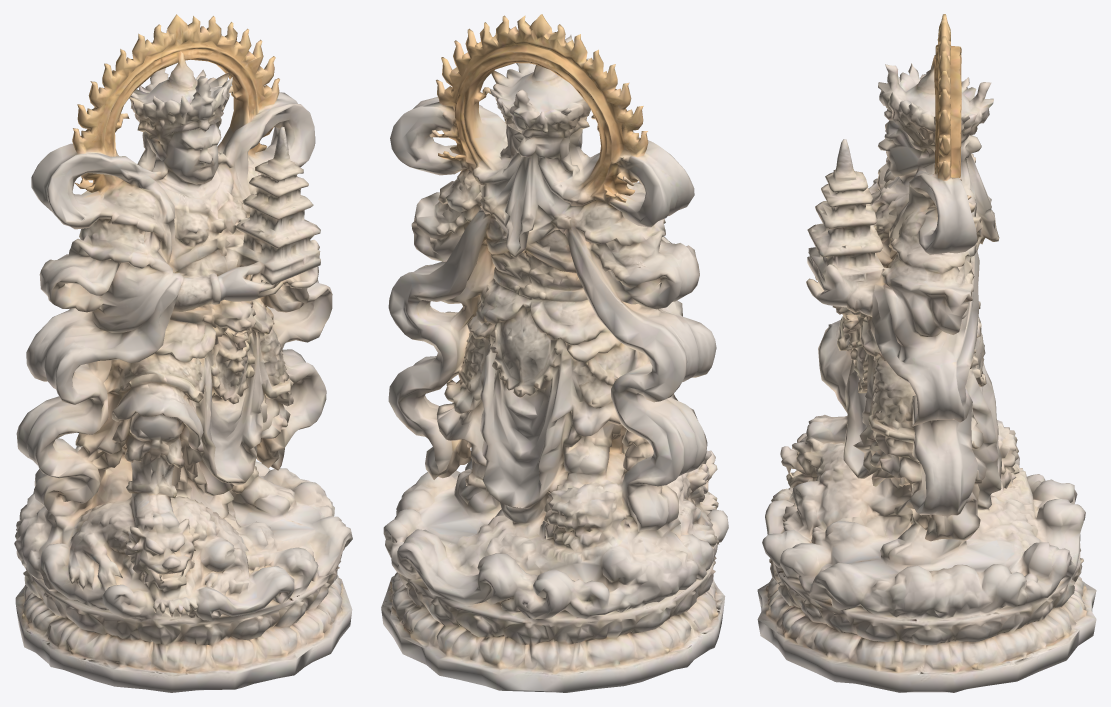
3 renders of one model, left to right at view 1: azimuth 30°, elevation 25°; view 2: azimuth 150°, elevation 25°; view 3: azimuth 270°, elevation 25°, orthographic. The views are drawn at different scales.
Parts seen in each view (by area): view 1: four-heavenly-kings-03; view 2: four-heavenly-kings-03; view 3: four-heavenly-kings-03.
Boxes of the visible parts, <box> form: four-heavenly-kings-03: <box>14,14,352,692</box>; four-heavenly-kings-03: <box>381,14,728,692</box>; four-heavenly-kings-03: <box>757,14,1096,692</box>.
Size of the model in its own units: 0.512 by 0.9995 by 0.5097.
1 material, 1 textured.
